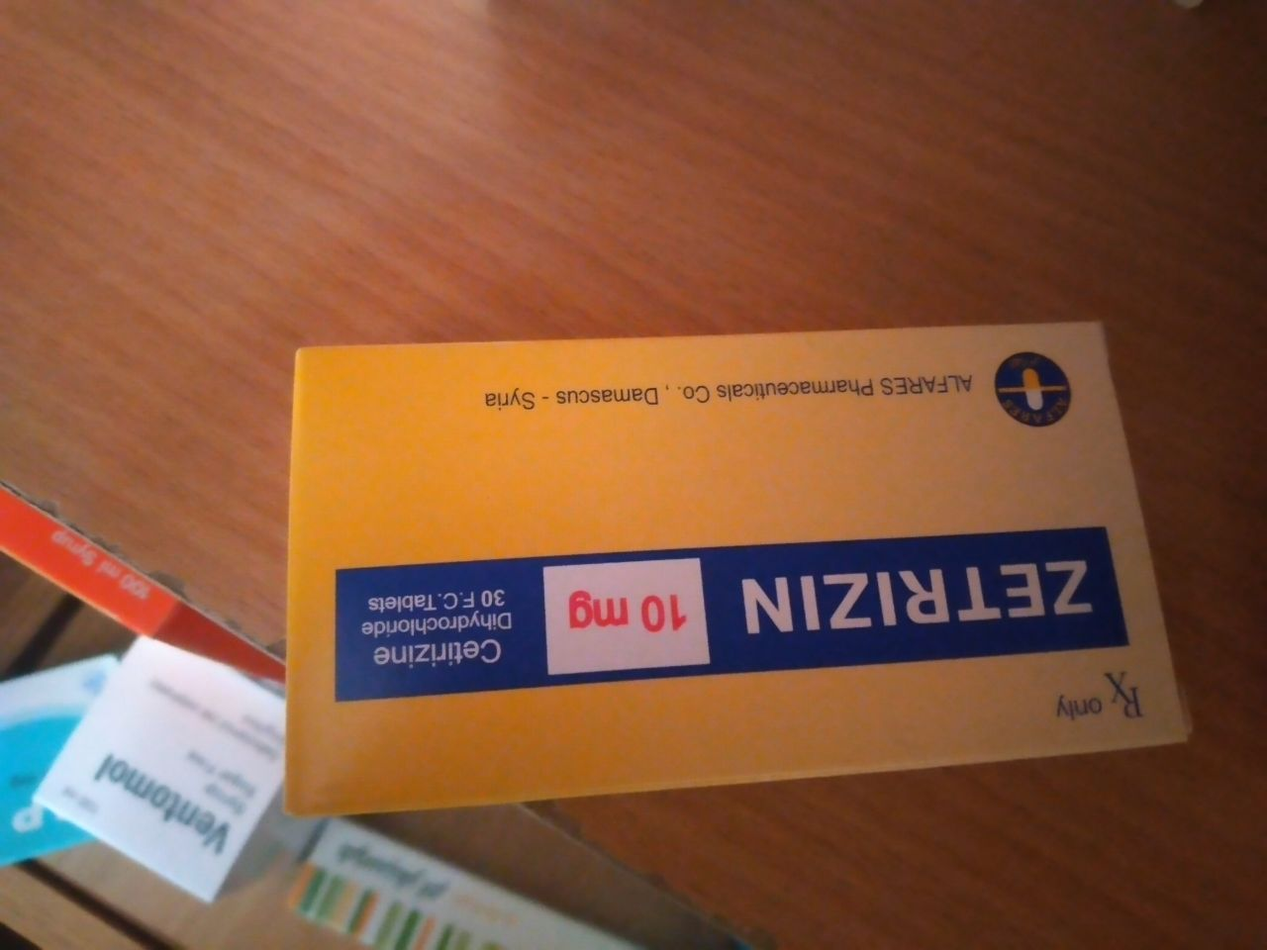Medicine: (270, 319, 1203, 826)
